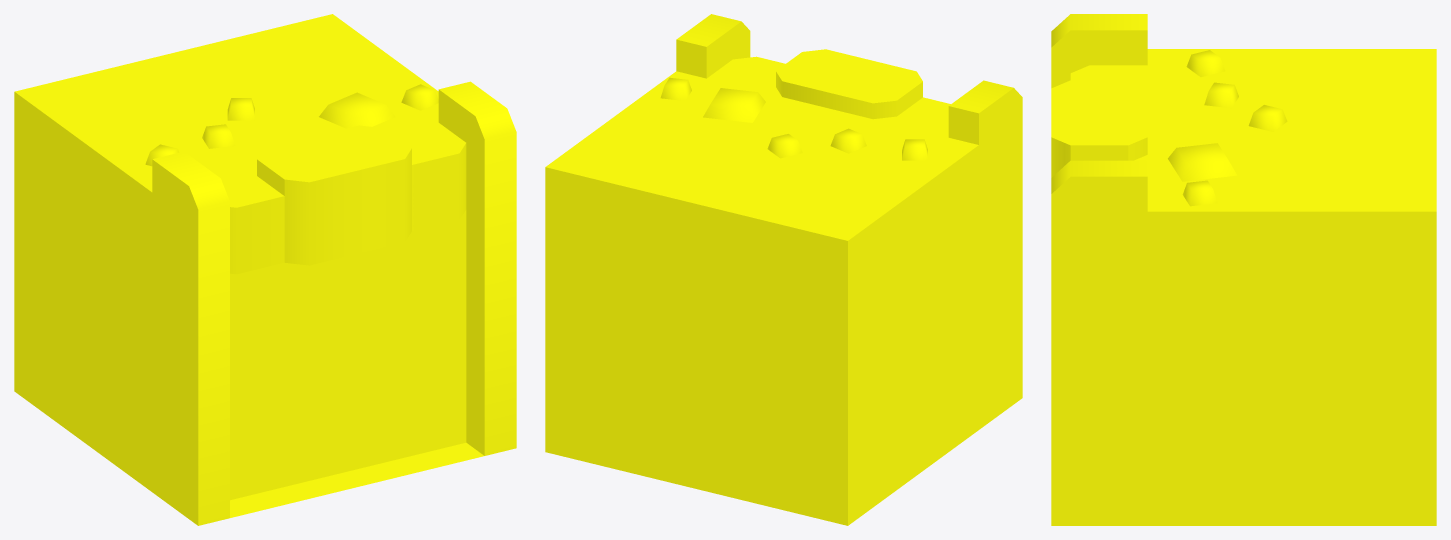
The model's file is 围墙门楼_围墙_半墙.glb.
The picture shows the model from 3 angles, left to right: view 1: azimuth 30°, elevation 25°; view 2: azimuth 150°, elevation 25°; view 3: azimuth 270°, elevation 25°; orthographic projection. The views are drawn at different scales.
Visible parts, largest first — view 1: wall-half; view 2: wall-half; view 3: wall-half.
Boxes of the visible parts, x1=… form: wall-half: x1=14, y1=14, x2=516, y2=525; wall-half: x1=545, y1=14, x2=1022, y2=525; wall-half: x1=1051, y1=14, x2=1436, y2=525.
Bounding box in the file's own units: 1 × 1 × 1.
Materials: 1 (1 with a texture image).
